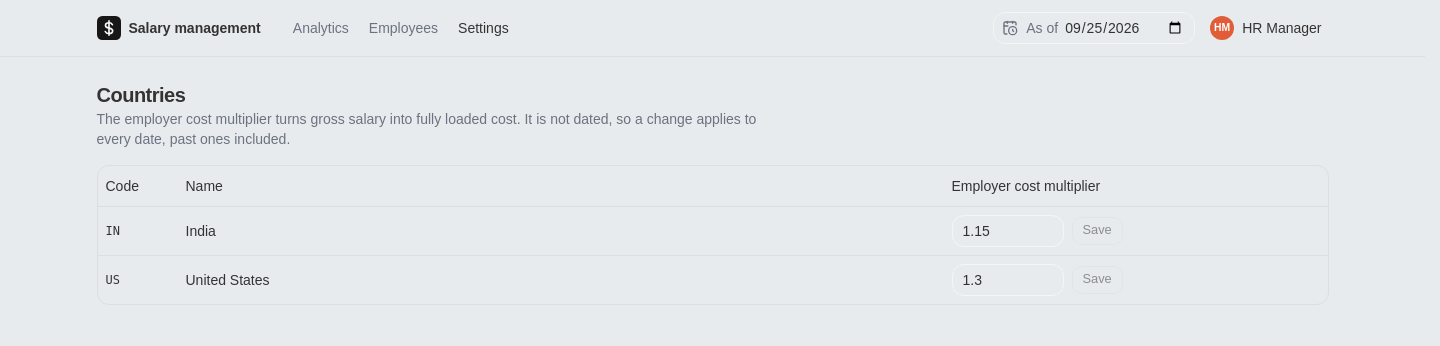
Test: countries › shows an error the form has no field for
The image size is (1440, 346).
Replace the text in the field labelled "India" with "1.2" at (1008, 230), box [952, 214, 1064, 246]
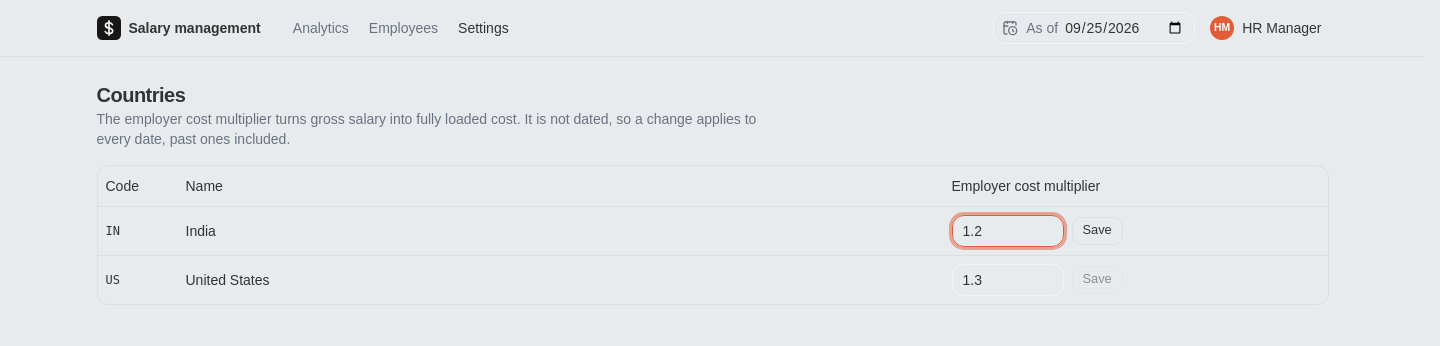
Click the button "Save" in the row of "India" at (1097, 230), box [1072, 216, 1123, 244]
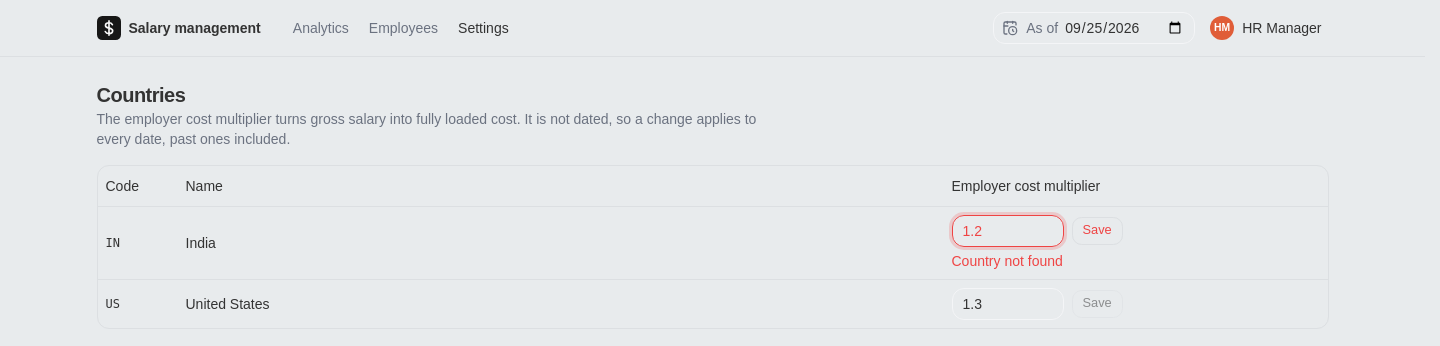
Result: the message "Country not found" is shown at [952, 252, 1063, 268]
